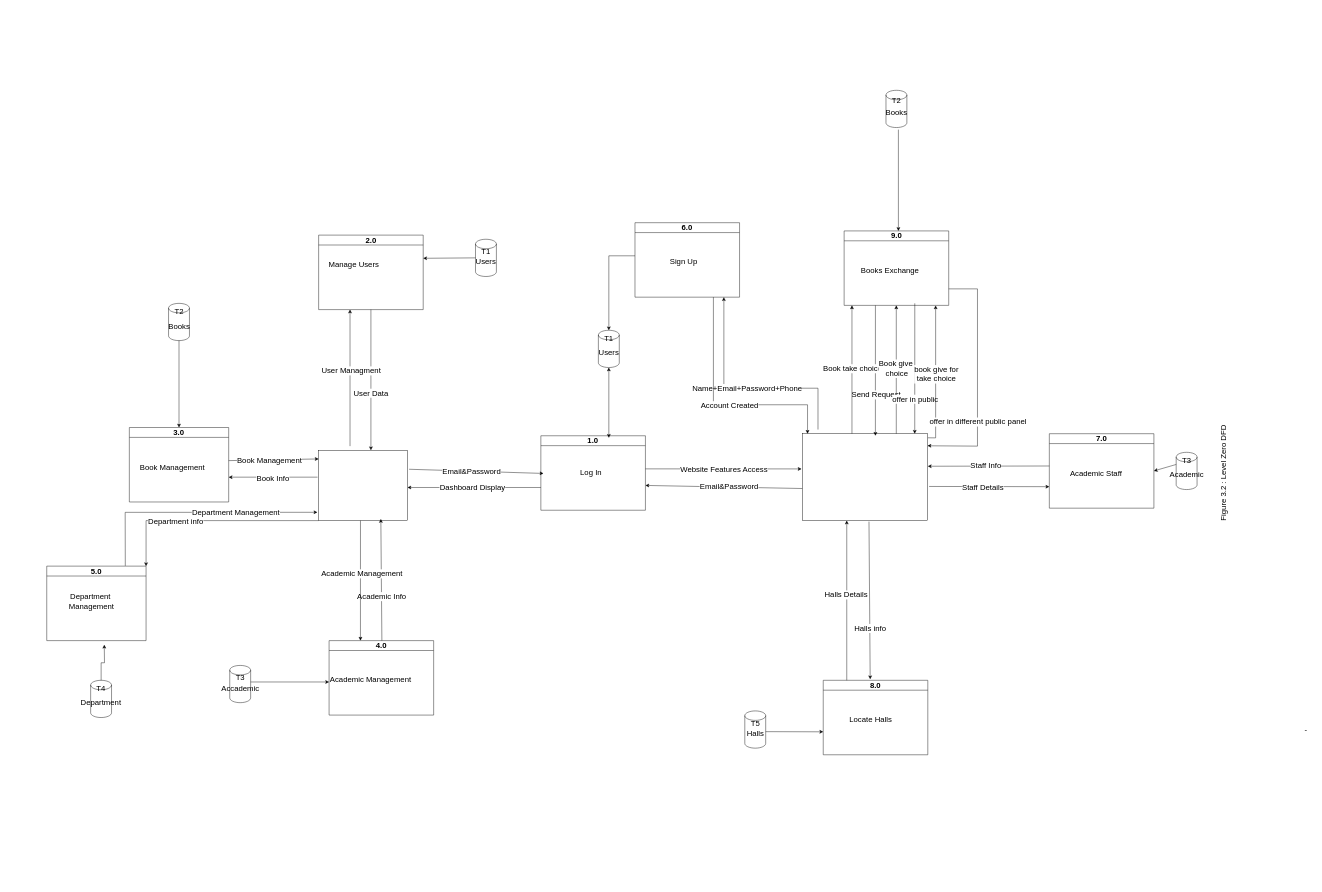
Some shapes in this 1322 by 892 pixel diagram are drawn without their labels. The shapes that lost their labels are listed below. From the top down, each one's centre as x and y in pixels, then its label:
At point (363, 485): "Admin".
At point (865, 477): "Student".
